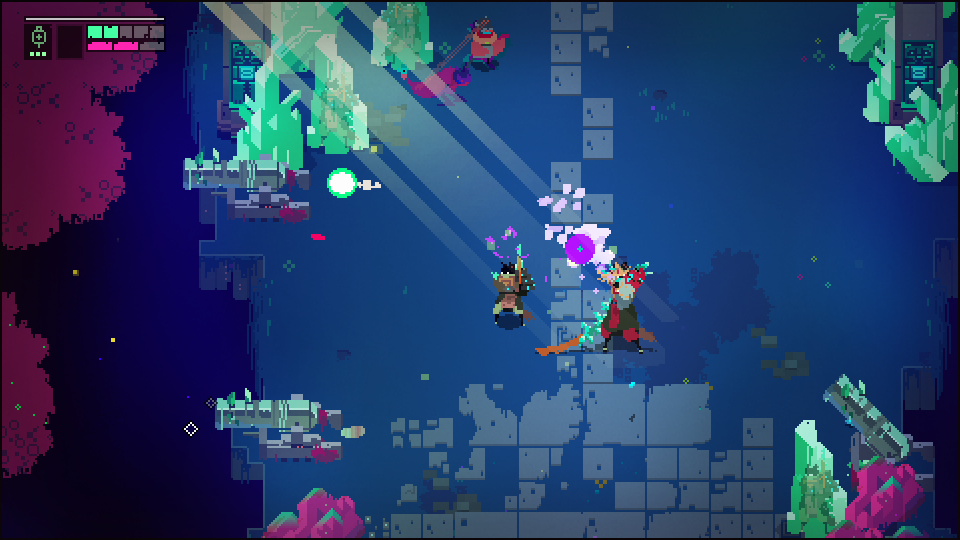hanged_man: (583, 260, 649, 361)
hanged_shot: (326, 165, 357, 199), (566, 232, 593, 265)
player: (465, 27, 499, 76)
